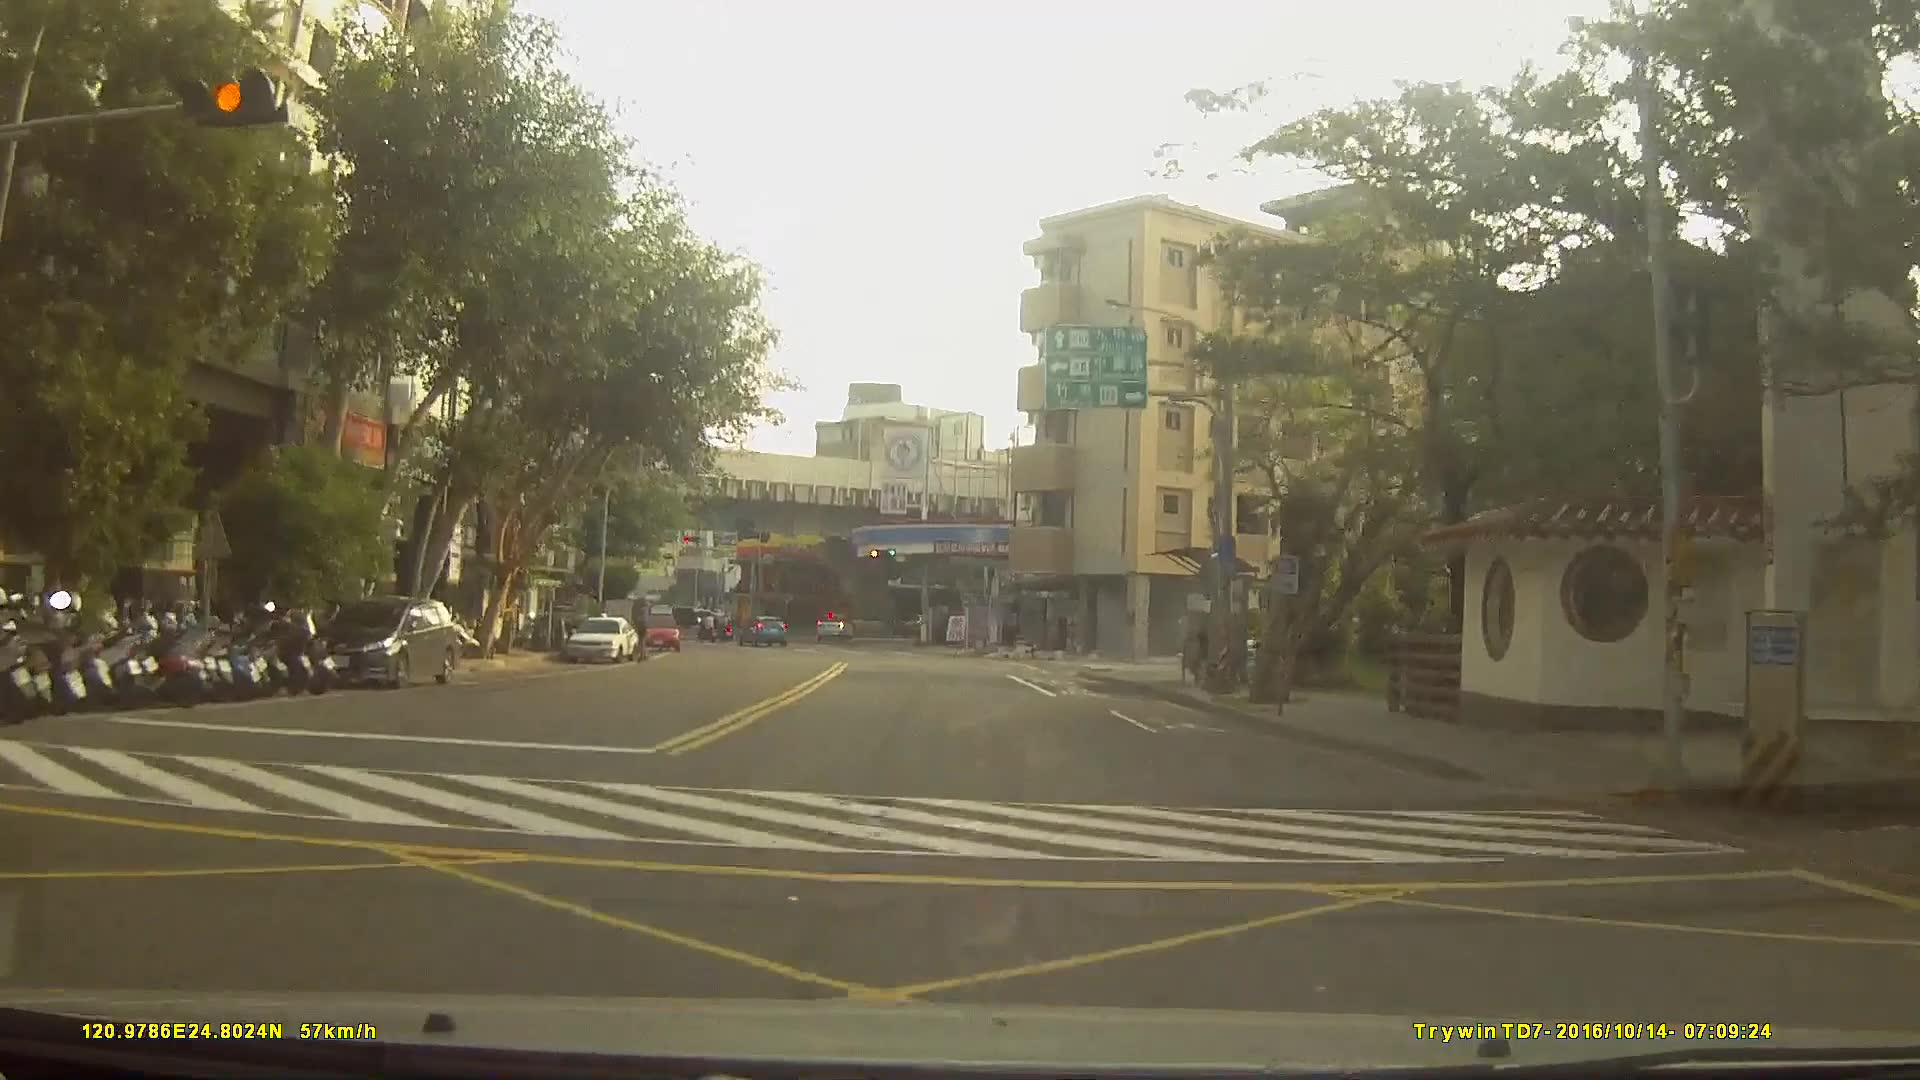rider: (696, 615, 720, 649)
vehicle: (309, 593, 463, 690), (563, 615, 639, 666), (638, 611, 681, 651), (736, 615, 786, 647), (814, 612, 854, 640)
